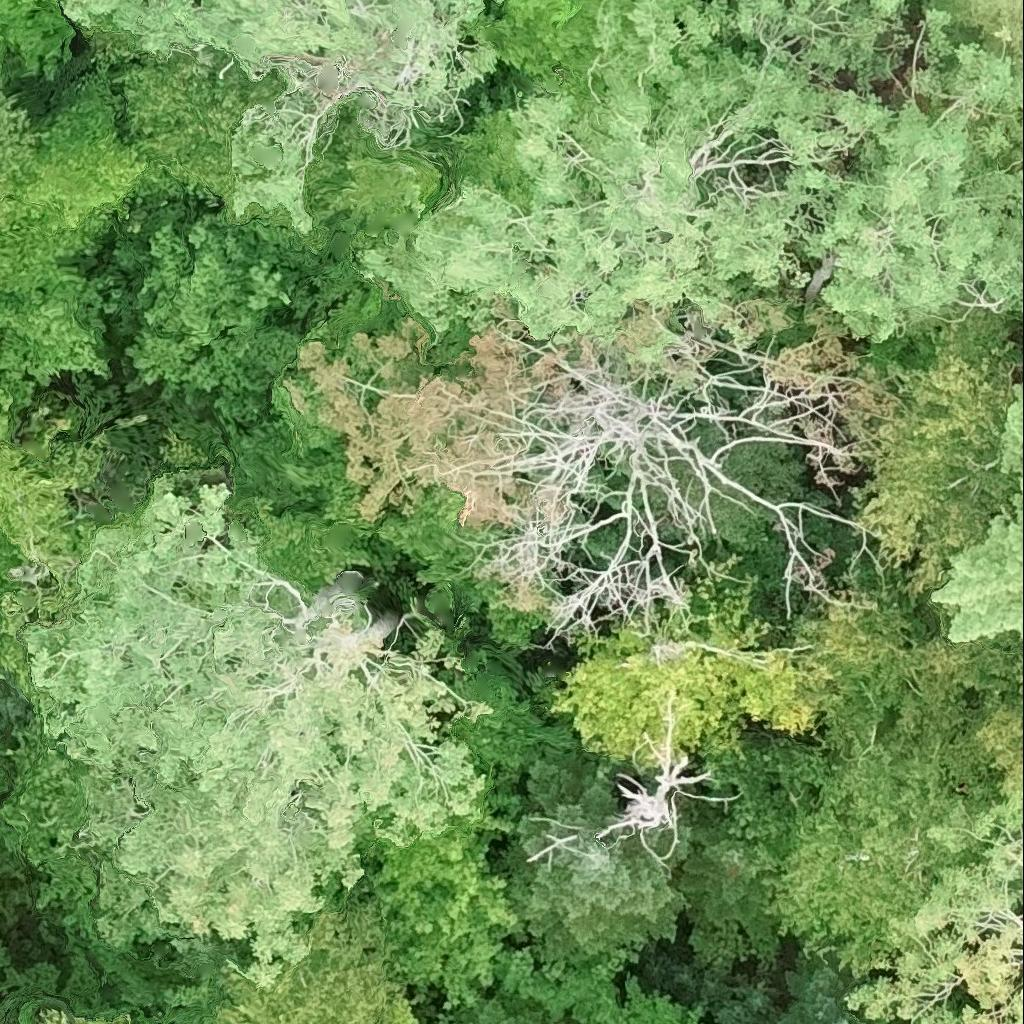crown: (38, 1008, 98, 1023)
